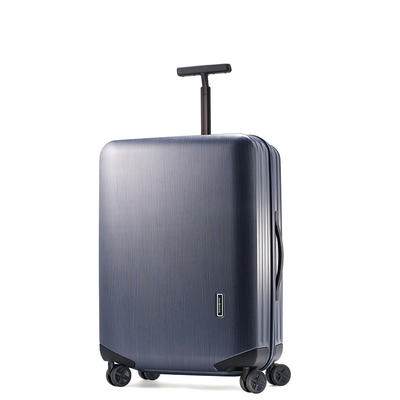luggage: (94, 62, 294, 396)
